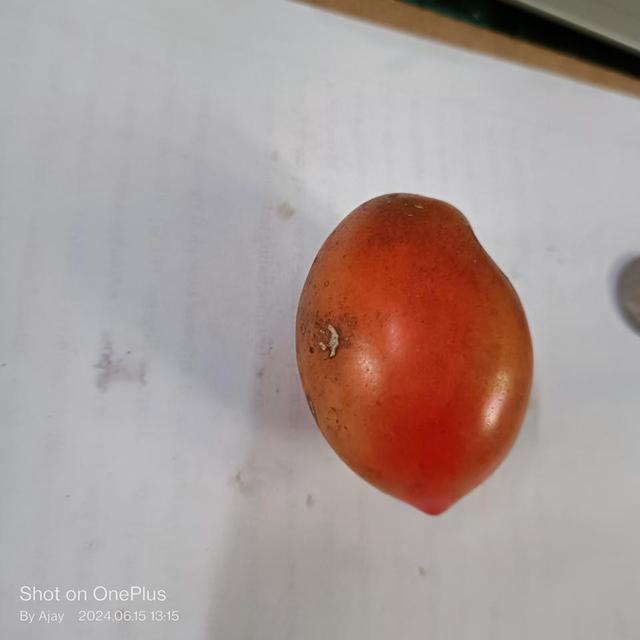Bacterial Spot Fruit: (213, 215, 228, 239)
